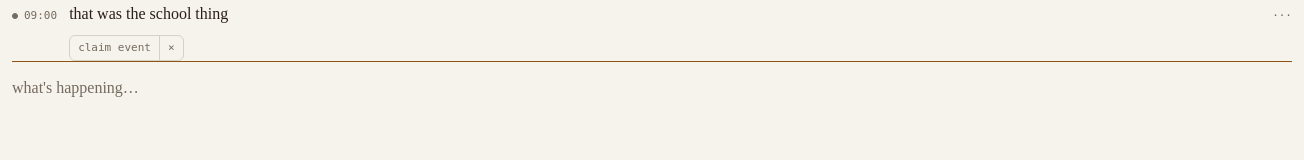
it: effect chips › dismissing a chip left by an older build drops the effect and keeps the coding
Expected: the text "that was the school thing" is shown, [69, 5, 228, 22]
Step 1. Click the button named "dismiss claim event" → (171, 48), box [159, 36, 183, 60]
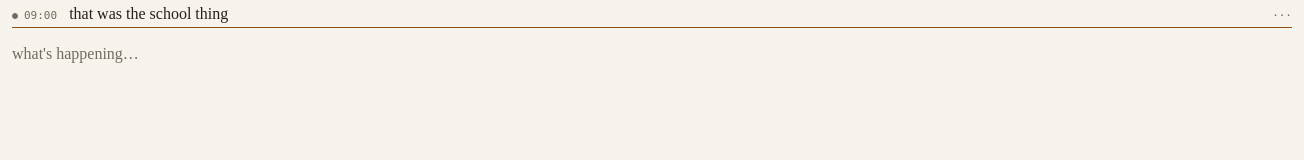
Result: the button "claim event" is gone
